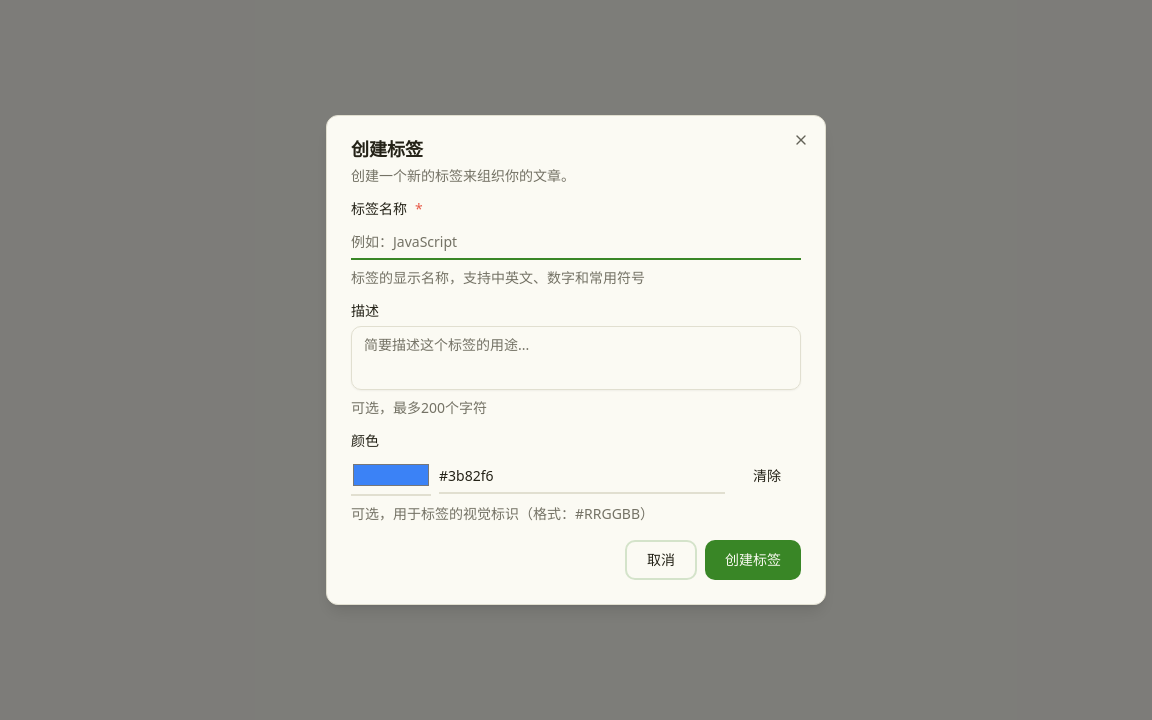
Test: TagDialog › 创建模式 › 应该验证必填字段
Click the button "创建标签": (753, 560) [705,540,801,580]
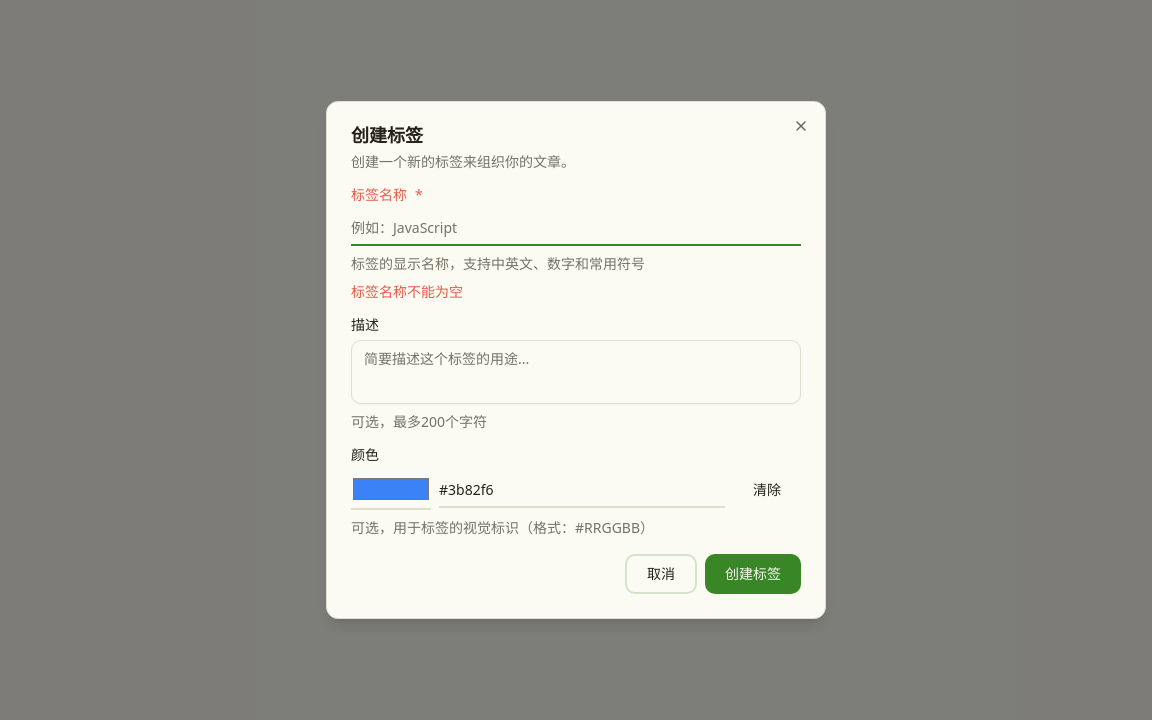
Expected: the text "标签名称不能为空" is shown, [351,282,463,301]
